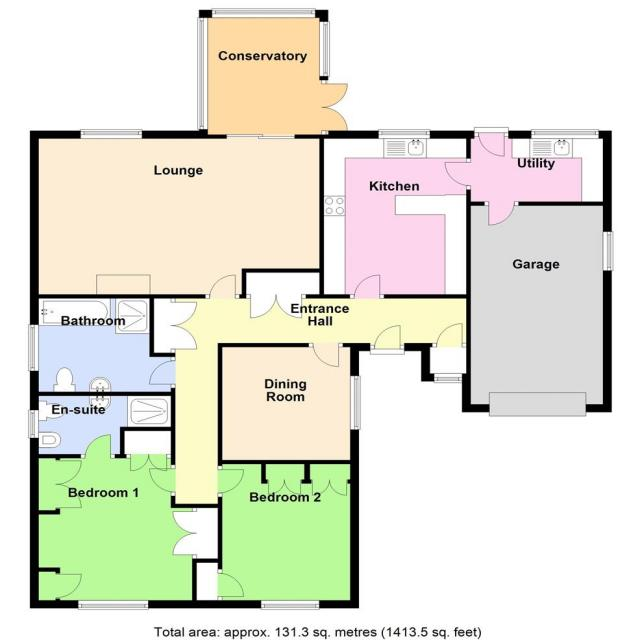DOOR: (369, 325, 405, 355), (473, 127, 509, 157), (307, 343, 344, 368), (217, 465, 245, 498), (148, 464, 176, 497), (349, 274, 385, 299), (204, 274, 240, 299), (443, 158, 471, 190), (148, 356, 175, 389), (80, 434, 116, 458), (431, 323, 467, 347), (483, 202, 519, 226)
ROOM: (30, 128, 325, 299), (30, 426, 223, 610), (319, 129, 471, 299), (191, 459, 359, 611), (210, 341, 354, 463)
WINDOW: (77, 599, 149, 611), (349, 375, 362, 431), (260, 599, 320, 611), (530, 129, 600, 139), (27, 323, 40, 372), (80, 129, 143, 139), (378, 129, 431, 139), (602, 231, 614, 272), (28, 409, 40, 439), (433, 373, 463, 383)
